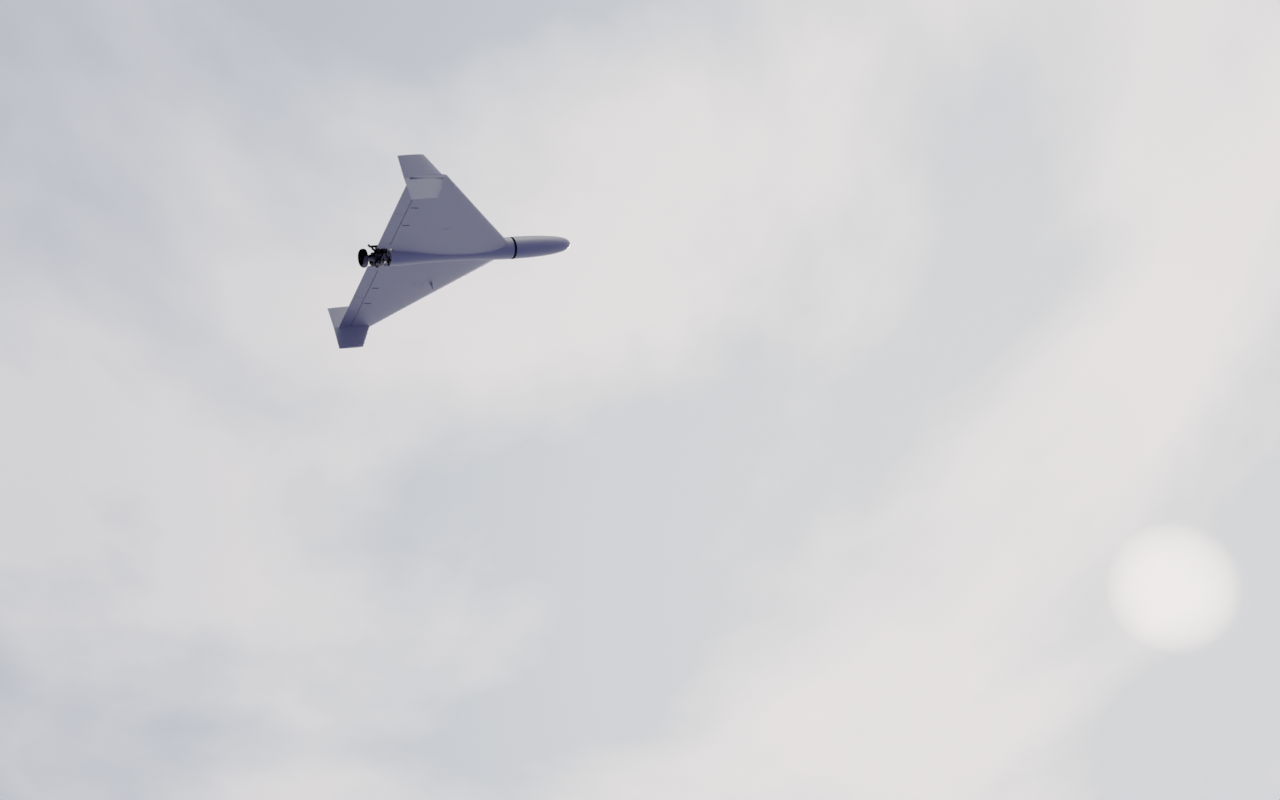shahed: (328, 154, 572, 351)
